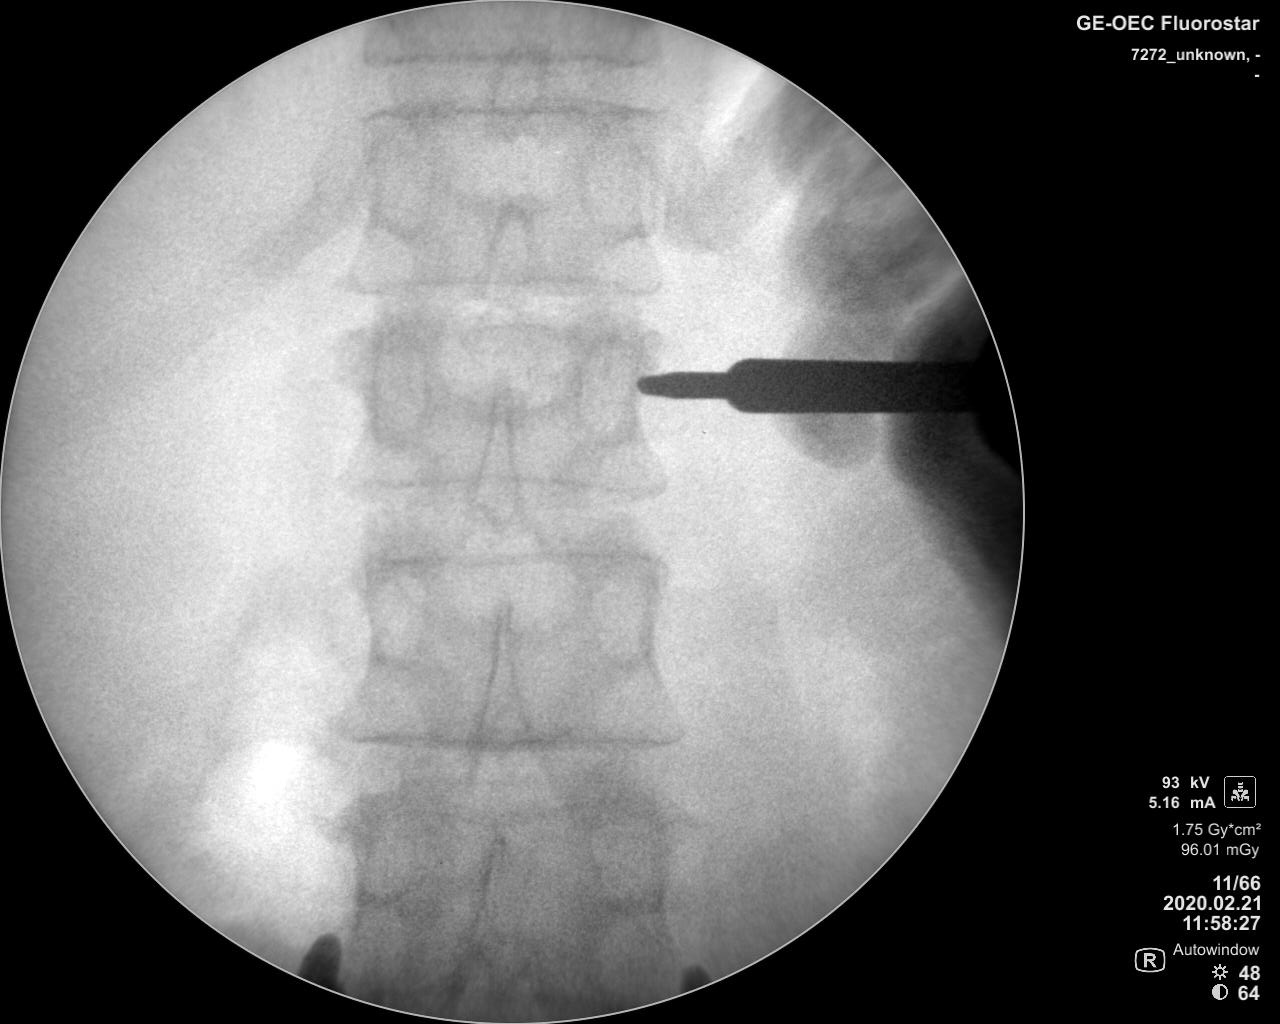eyes: (581, 800, 676, 913), (338, 797, 430, 904), (359, 126, 439, 237), (577, 133, 659, 236), (583, 562, 664, 666), (362, 325, 432, 441), (572, 333, 641, 441), (348, 566, 422, 666)
line: (335, 466, 676, 511), (318, 721, 699, 759), (350, 39, 667, 78), (335, 265, 673, 302), (324, 548, 684, 581), (346, 96, 673, 127)
nose: (466, 597, 530, 785), (469, 363, 523, 537), (463, 819, 518, 980), (478, 184, 539, 315), (487, 29, 543, 147)
